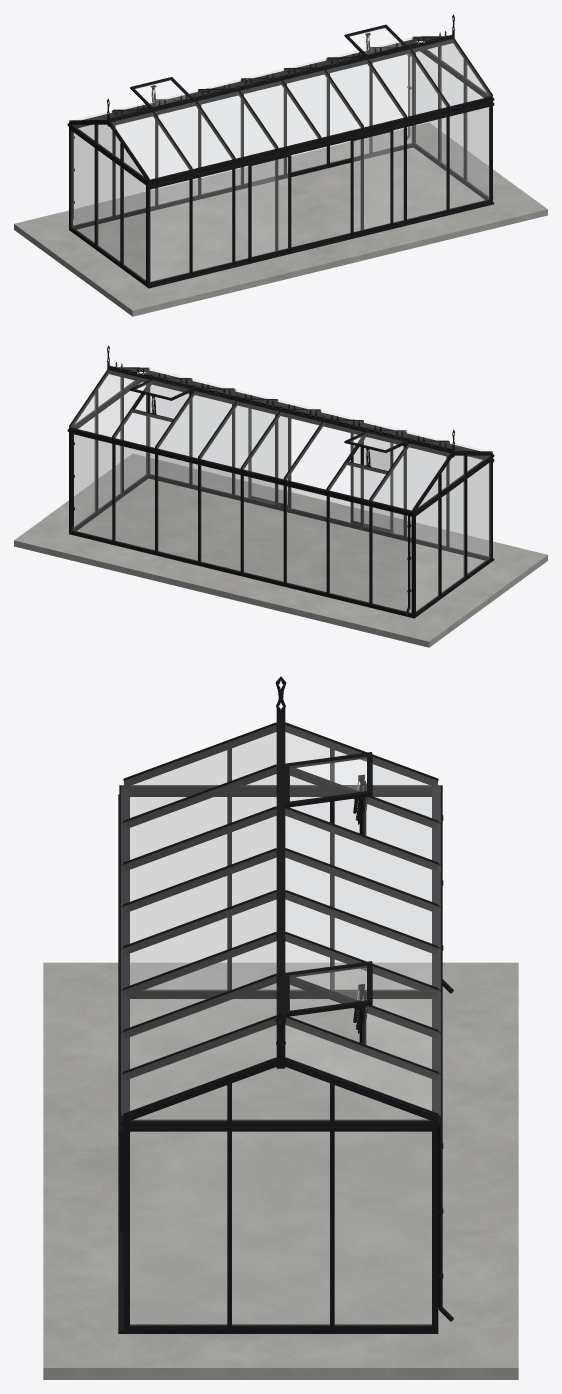
File: sg-rect-7-9-19-11-decor.glb
3 views of the same model, one above another, from view 1: azimuth 30°, elevation 25°; view 2: azimuth 150°, elevation 25°; view 3: azimuth 270°, elevation 25° (orthographic). The views are drawn at different scales.
Visible parts, largest first — view 1: scandiglas-rect-7-9-19-11-decor; view 2: scandiglas-rect-7-9-19-11-decor; view 3: scandiglas-rect-7-9-19-11-decor.
Boxes of the visible parts, bbox=[...] form: scandiglas-rect-7-9-19-11-decor: bbox=[14, 14, 547, 316]; scandiglas-rect-7-9-19-11-decor: bbox=[14, 345, 547, 647]; scandiglas-rect-7-9-19-11-decor: bbox=[43, 676, 518, 1379].
Size of the model in its own units: 7.35 by 2.81 by 3.64.
5 materials, 1 textured.
